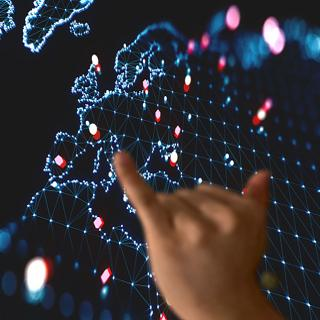HAVE: (108, 142, 282, 310)
